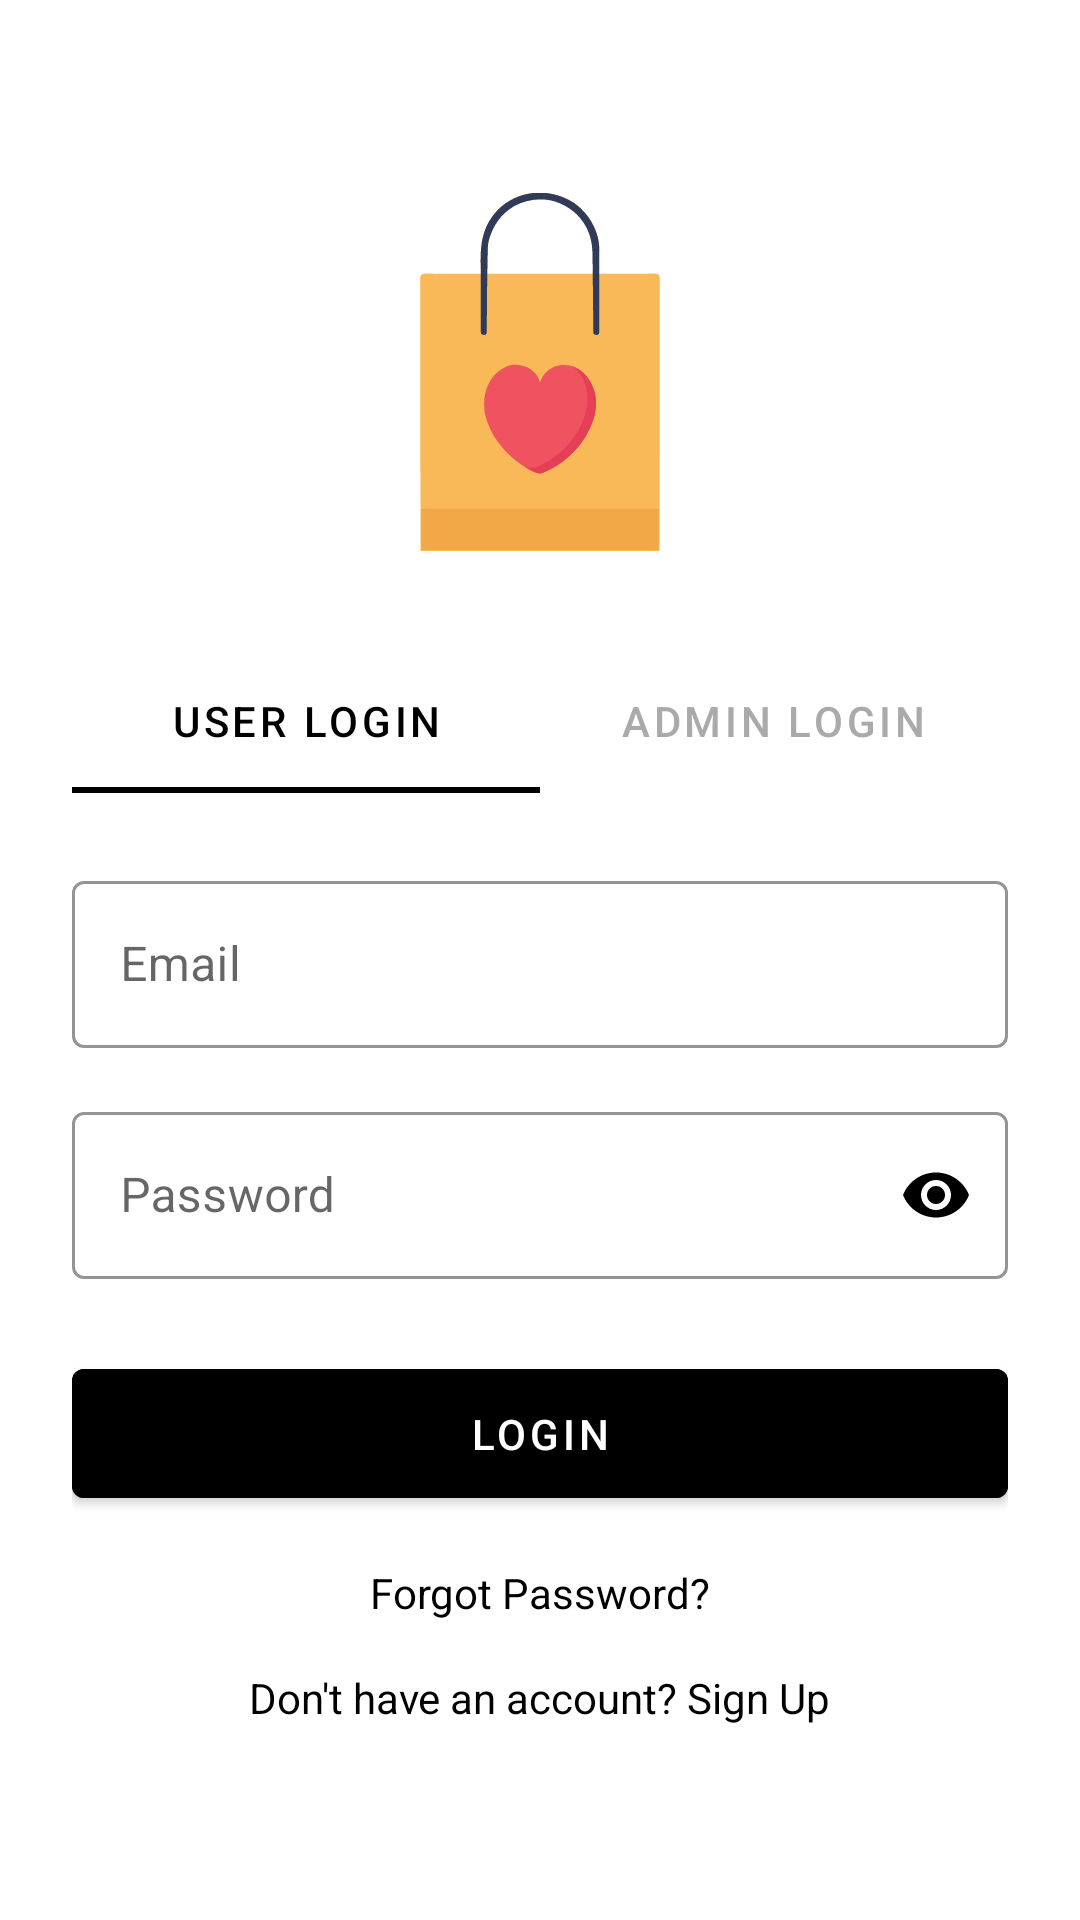

Screen size 1080px x 1920px. Icon name, then its center in pixels as [x,y]:
shopping bag: [540,372]
